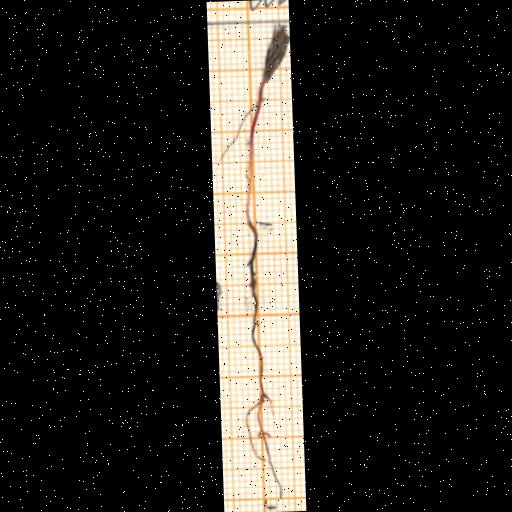flowerPinus: (263, 24, 289, 82)
rootPinus: (245, 223, 283, 498)
stemPinus: (247, 76, 266, 223)
